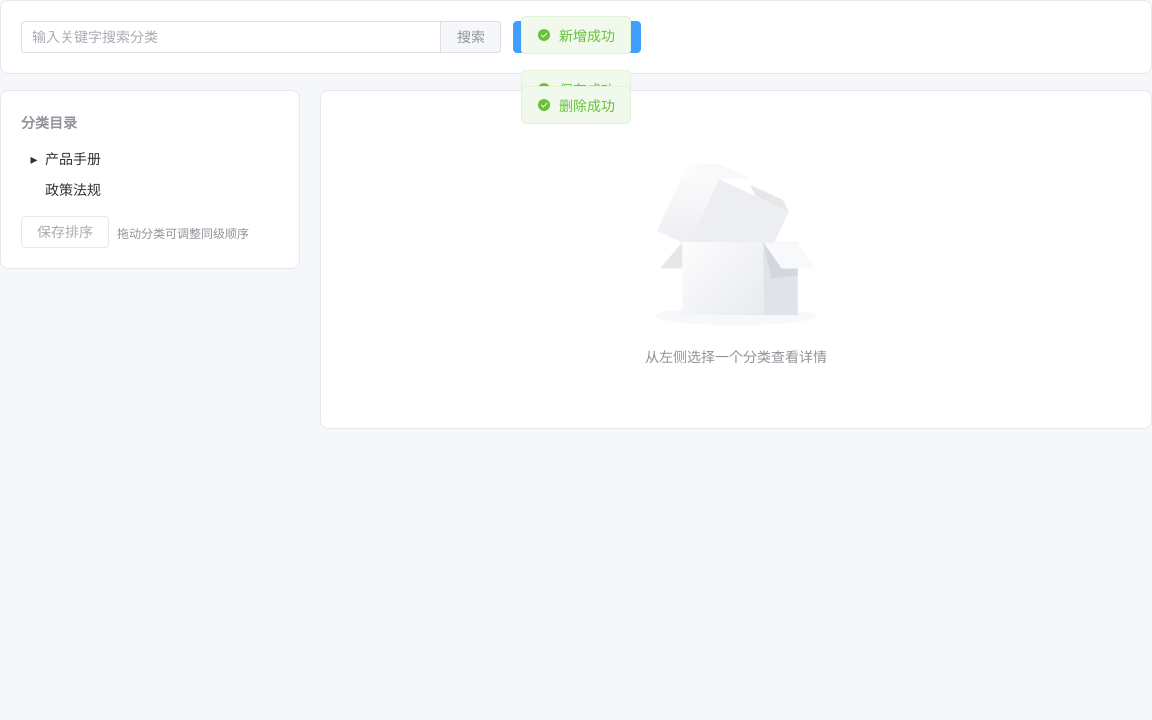
Scenario: CategoryManageView 分类管理 › 选中分类加载详情
Click the text with class "cat-name" showing "产品手册" at point(73, 158), box left=45, top=148, right=101, bottom=168
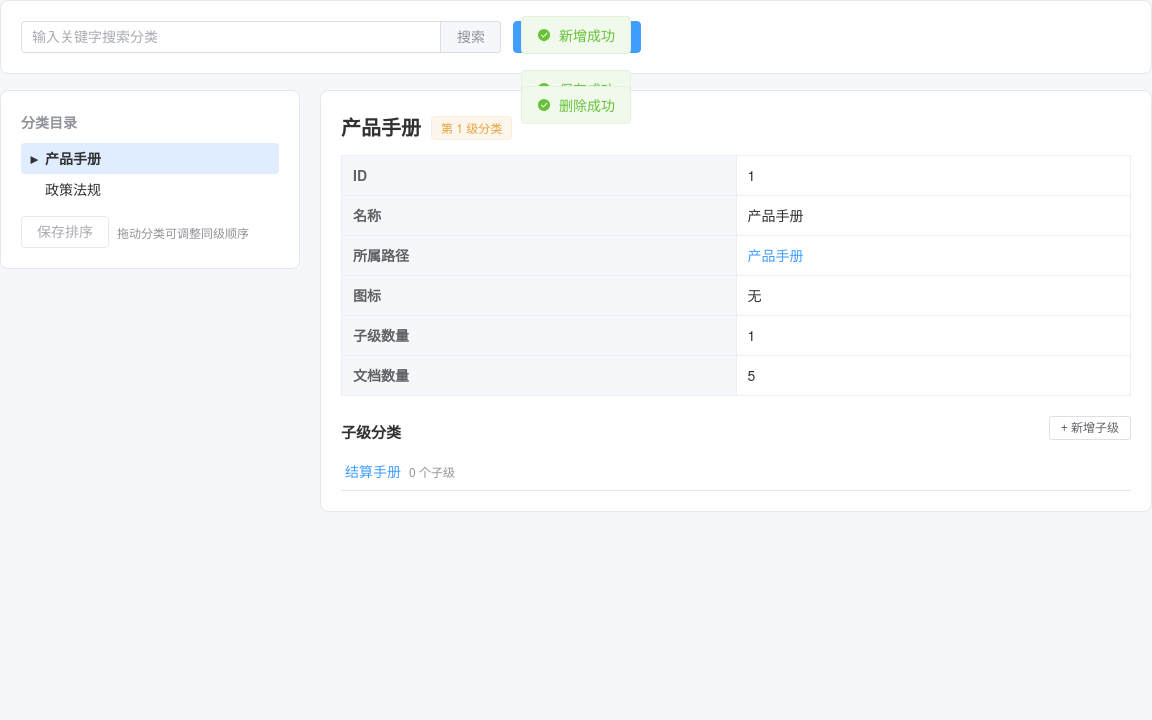
Result: the text "文档数量" is shown at left=342, top=356, right=736, bottom=396
